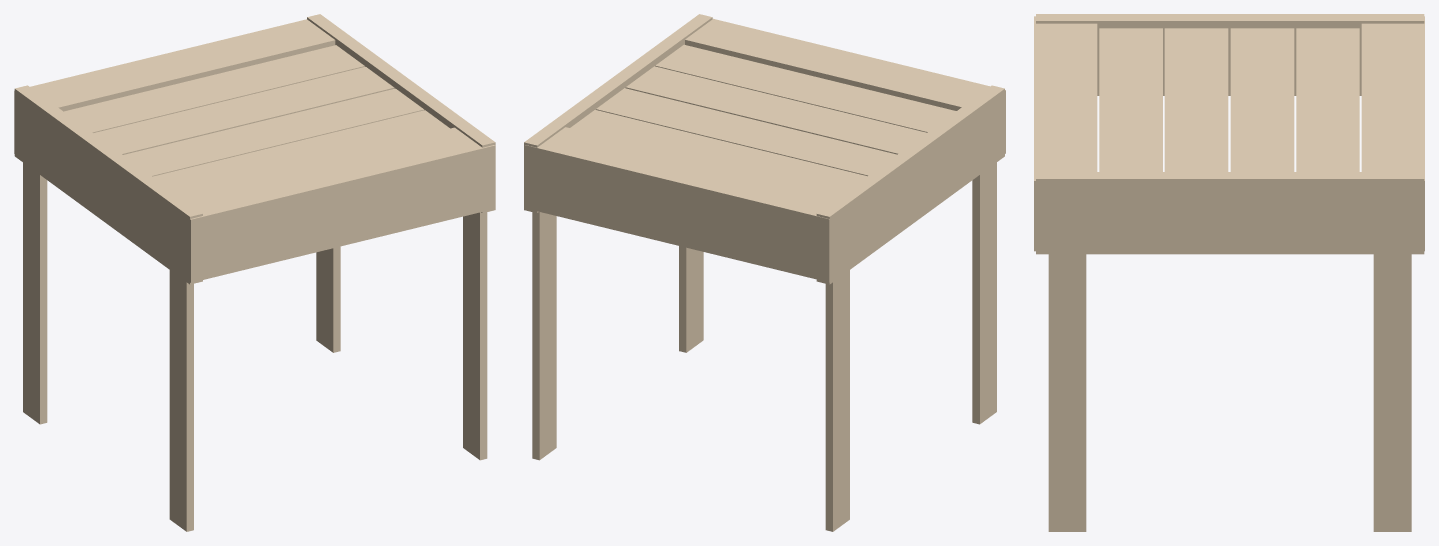
File: sh-contrib-table-footrest.glb
3 views of the same model, side by side, from view 1: azimuth 30°, elevation 25°; view 2: azimuth 150°, elevation 25°; view 3: azimuth 270°, elevation 25° (orthographic). The views are drawn at different scales.
Visible parts, largest first — view 1: Cube_1; view 2: Cube_1; view 3: Cube_1.
Boxes of the visible parts, x1,y1,x2,y2 form: Cube_1: [14, 14, 495, 531]; Cube_1: [524, 14, 1005, 531]; Cube_1: [1034, 14, 1424, 531].
Size of the model in its own units: 1 by 1 by 1.
